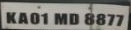character: (53, 12, 67, 26), (28, 12, 40, 25), (68, 12, 79, 26), (17, 12, 28, 25), (83, 12, 94, 25), (95, 13, 106, 26), (6, 11, 16, 24), (106, 13, 115, 26), (115, 14, 124, 27), (40, 12, 48, 25)
